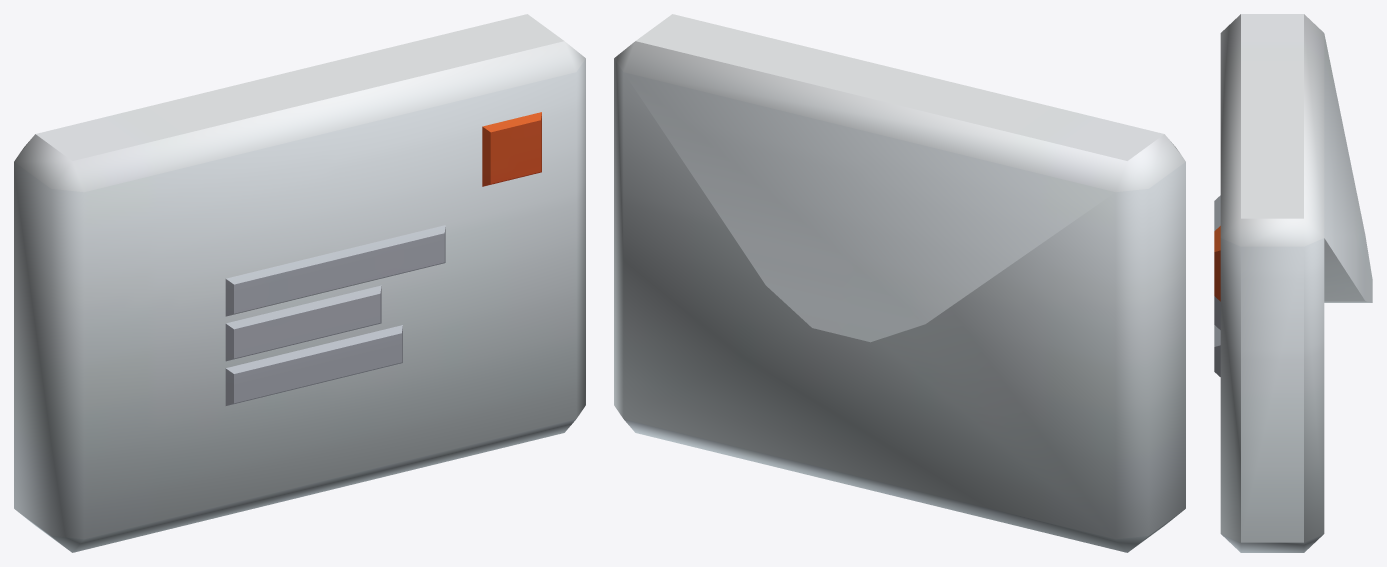
Rendered from brev.glb.
The picture shows the model from 3 angles, left to right: view 1: azimuth 30°, elevation 25°; view 2: azimuth 150°, elevation 25°; view 3: azimuth 270°, elevation 25°; orthographic projection. The views are drawn at different scales.
Visible parts, largest first — view 1: letter; view 2: letter; view 3: letter.
Boxes of the visible parts, x1,y1,x2,y2 form: letter: [14, 14, 585, 552]; letter: [614, 14, 1185, 552]; letter: [1214, 14, 1372, 552].
Size of the model in its own units: 0.5 by 0.35 by 0.15.
1 material, 1 textured.
